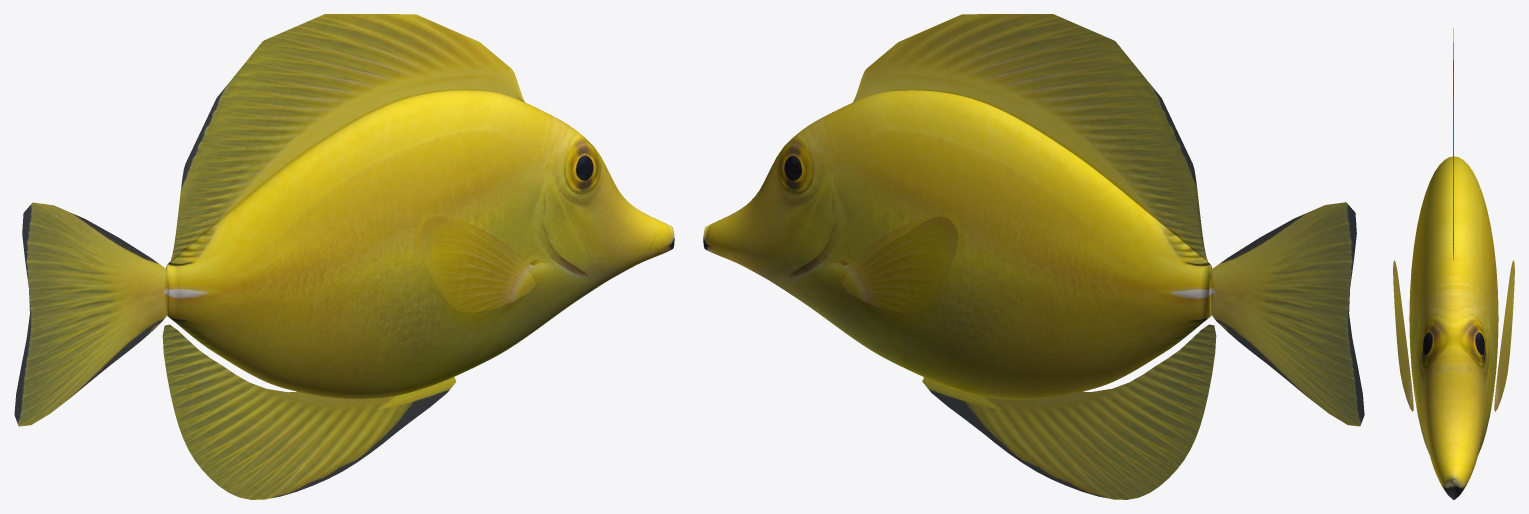
Rendered from yellow.glb.
3 renders of one model, left to right at view 1: azimuth 30°, elevation 25°; view 2: azimuth 150°, elevation 25°; view 3: azimuth 270°, elevation 25°, orthographic. The views are drawn at different scales.
Visible parts, largest first — view 1: yellow__body, yellow__fin_1, yellow__fin_2, yellow__fin_0, yellow__pectoral_1, yellow__gill_1, yellow__eye_1; view 2: yellow__body, yellow__fin_1, yellow__fin_2, yellow__fin_0, yellow__pectoral_-1, yellow__gill_-1, yellow__eye_-1; view 3: yellow__body, yellow__pectoral_1, yellow__pectoral_-1, yellow__eye_1, yellow__eye_-1, yellow__gill_1, yellow__gill_-1, yellow__fin_1.
Part boxes in pixels (x1,y1,x2,y2): yellow__body: [166, 90, 674, 399]; yellow__fin_1: [170, 14, 525, 263]; yellow__fin_2: [162, 324, 456, 499]; yellow__fin_0: [14, 202, 167, 426]; yellow__pectoral_1: [419, 216, 535, 312]; yellow__gill_1: [539, 176, 589, 307]; yellow__eye_1: [569, 143, 598, 187]; yellow__body: [703, 90, 1212, 399]; yellow__fin_1: [853, 14, 1208, 262]; yellow__fin_2: [922, 324, 1216, 499]; yellow__fin_0: [1211, 202, 1364, 426]; yellow__pectoral_-1: [842, 216, 958, 312]; yellow__gill_-1: [788, 176, 838, 307]; yellow__eye_-1: [779, 143, 808, 187]; yellow__body: [1409, 156, 1498, 499]; yellow__pectoral_1: [1393, 260, 1413, 411]; yellow__pectoral_-1: [1494, 260, 1514, 411]; yellow__eye_1: [1421, 324, 1442, 362]; yellow__eye_-1: [1465, 324, 1486, 362]; yellow__gill_1: [1415, 324, 1429, 454]; yellow__gill_-1: [1478, 324, 1492, 454]; yellow__fin_1: [1453, 28, 1453, 260].
Bounding box in the file's own units: 1.3 × 0.8925 × 0.2218.
Materials: 3 (3 with a texture image).
